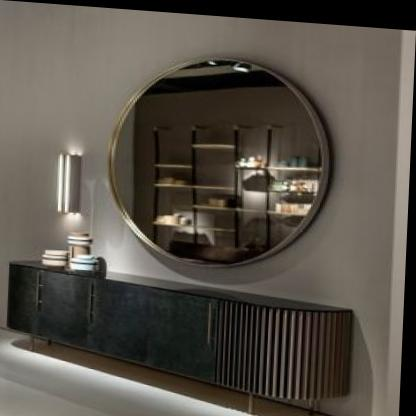Sideboard: (10, 262, 353, 407)
